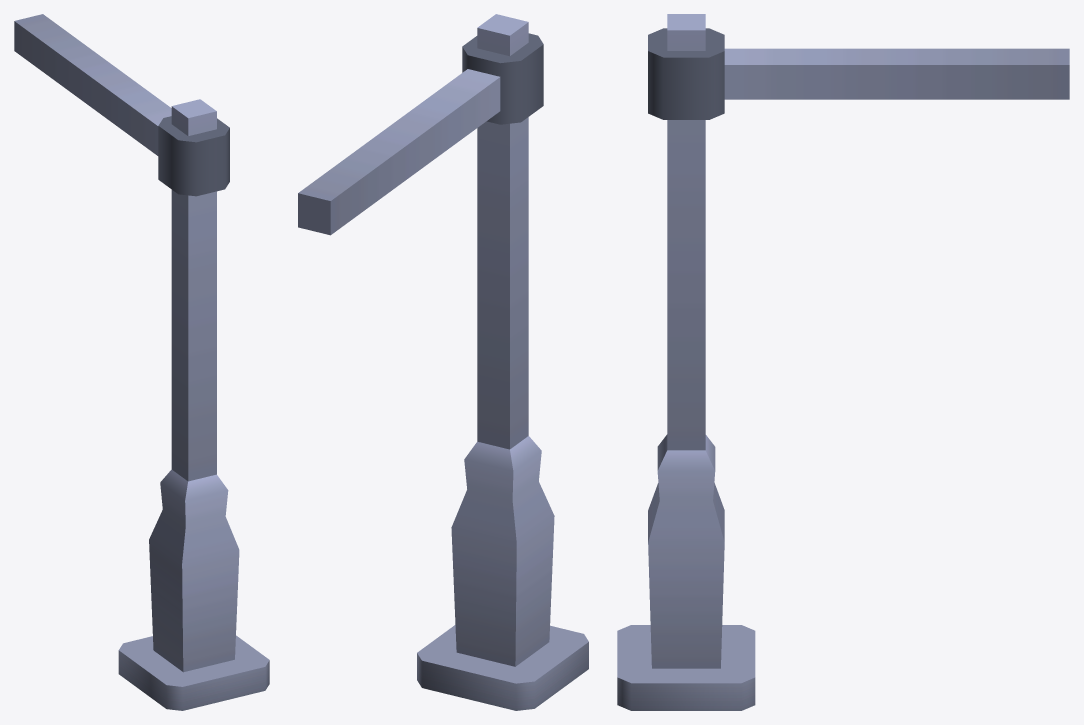
Rendered from road-sign-empty-hanging.glb.
The picture shows the model from 3 angles, left to right: view 1: azimuth 30°, elevation 25°; view 2: azimuth 150°, elevation 25°; view 3: azimuth 270°, elevation 25°; orthographic projection. The views are drawn at different scales.
Visible parts, largest first — view 1: road-sign-empty-hanging; view 2: road-sign-empty-hanging; view 3: road-sign-empty-hanging.
Part boxes in pixels (box(x1,y1,x2,y2)): road-sign-empty-hanging: box(14, 14, 269, 710); road-sign-empty-hanging: box(298, 14, 588, 710); road-sign-empty-hanging: box(617, 14, 1069, 710).
Bounding box in the file's own units: 0.09 × 0.475 × 0.295.
Materials: 1 (1 with a texture image).
